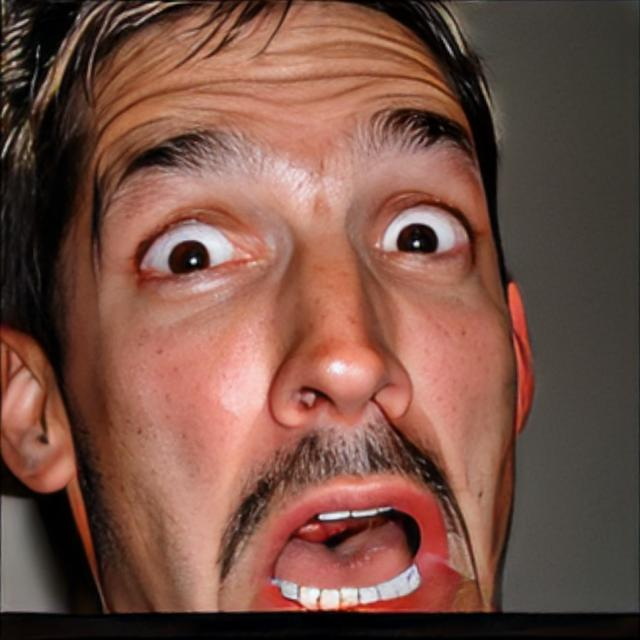fear: (54, 2, 519, 614)
